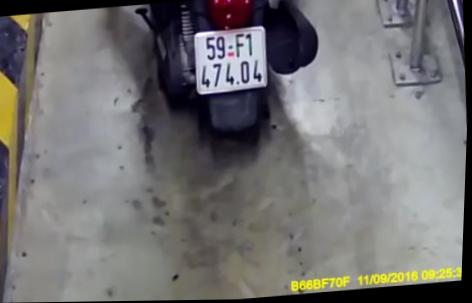LP: (191, 24, 273, 96)
